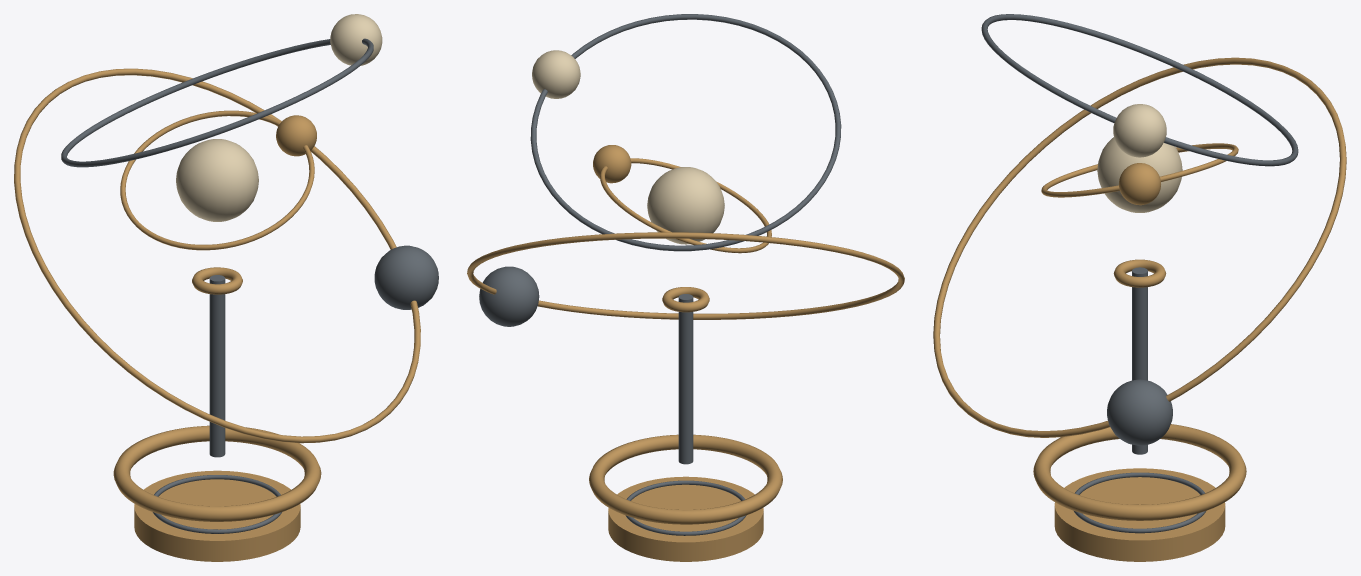
Rendered from orrery-main-v1.glb.
3 renders of one model, left to right at view 1: azimuth 30°, elevation 25°; view 2: azimuth 150°, elevation 25°; view 3: azimuth 270°, elevation 25°, orthographic. The views are drawn at different scales.
Visible parts, largest first — view 1: base_pedestal, orbit_outer_track, foot_ring, central_sun, orbit_middle_track, body_outer, orbit_inner_track, support_column, body_middle, base_inset, body_inner, top_collar; view 2: base_pedestal, foot_ring, orbit_outer_track, orbit_middle_track, central_sun, body_outer, support_column, body_middle, orbit_inner_track, base_inset, body_inner, top_collar; view 3: base_pedestal, orbit_outer_track, foot_ring, orbit_middle_track, body_outer, central_sun, body_middle, support_column, orbit_inner_track, base_inset, body_inner, top_collar.
Boxes of the visible parts, x1=… form: base_pedestal: x1=134, y1=470, x2=300, y2=561; orbit_outer_track: x1=14, y1=68, x2=420, y2=443; foot_ring: x1=113, y1=425, x2=321, y2=521; central_sun: x1=176, y1=139, x2=258, y2=221; orbit_middle_track: x1=61, y1=38, x2=373, y2=167; body_outer: x1=374, y1=245, x2=438, y2=309; orbit_inner_track: x1=120, y1=110, x2=314, y2=250; support_column: x1=209, y1=275, x2=225, y2=457; body_middle: x1=330, y1=14, x2=382, y2=65; base_inset: x1=152, y1=475, x2=281, y2=533; body_inner: x1=276, y1=115, x2=316, y2=156; top_collar: x1=192, y1=267, x2=242, y2=294; base_pedestal: x1=608, y1=476, x2=763, y2=561; foot_ring: x1=589, y1=434, x2=782, y2=524; orbit_outer_track: x1=467, y1=232, x2=904, y2=319; orbit_middle_track: x1=530, y1=14, x2=841, y2=251; central_sun: x1=647, y1=167, x2=724, y2=244; body_outer: x1=479, y1=266, x2=539, y2=326; support_column: x1=678, y1=294, x2=693, y2=464; body_middle: x1=532, y1=50, x2=580, y2=98; orbit_inner_track: x1=600, y1=158, x2=771, y2=253; base_inset: x1=625, y1=480, x2=746, y2=535; body_inner: x1=593, y1=145, x2=631, y2=183; top_collar: x1=662, y1=287, x2=709, y2=312; base_pedestal: x1=1054, y1=468, x2=1225, y2=561; orbit_outer_track: x1=933, y1=57, x2=1346, y2=437; foot_ring: x1=1033, y1=424, x2=1246, y2=520; orbit_middle_track: x1=981, y1=14, x2=1298, y2=166; body_outer: x1=1107, y1=379, x2=1172, y2=445; central_sun: x1=1097, y1=137, x2=1182, y2=212; body_middle: x1=1113, y1=104, x2=1166, y2=157; support_column: x1=1132, y1=267, x2=1147, y2=454; orbit_inner_track: x1=1041, y1=143, x2=1238, y2=197; base_inset: x1=1074, y1=472, x2=1205, y2=533; body_inner: x1=1119, y1=163, x2=1160, y2=205; top_collar: x1=1113, y1=259, x2=1166, y2=287.
Bounding box in the file's own units: 1.54 × 1.75 × 1.31.
